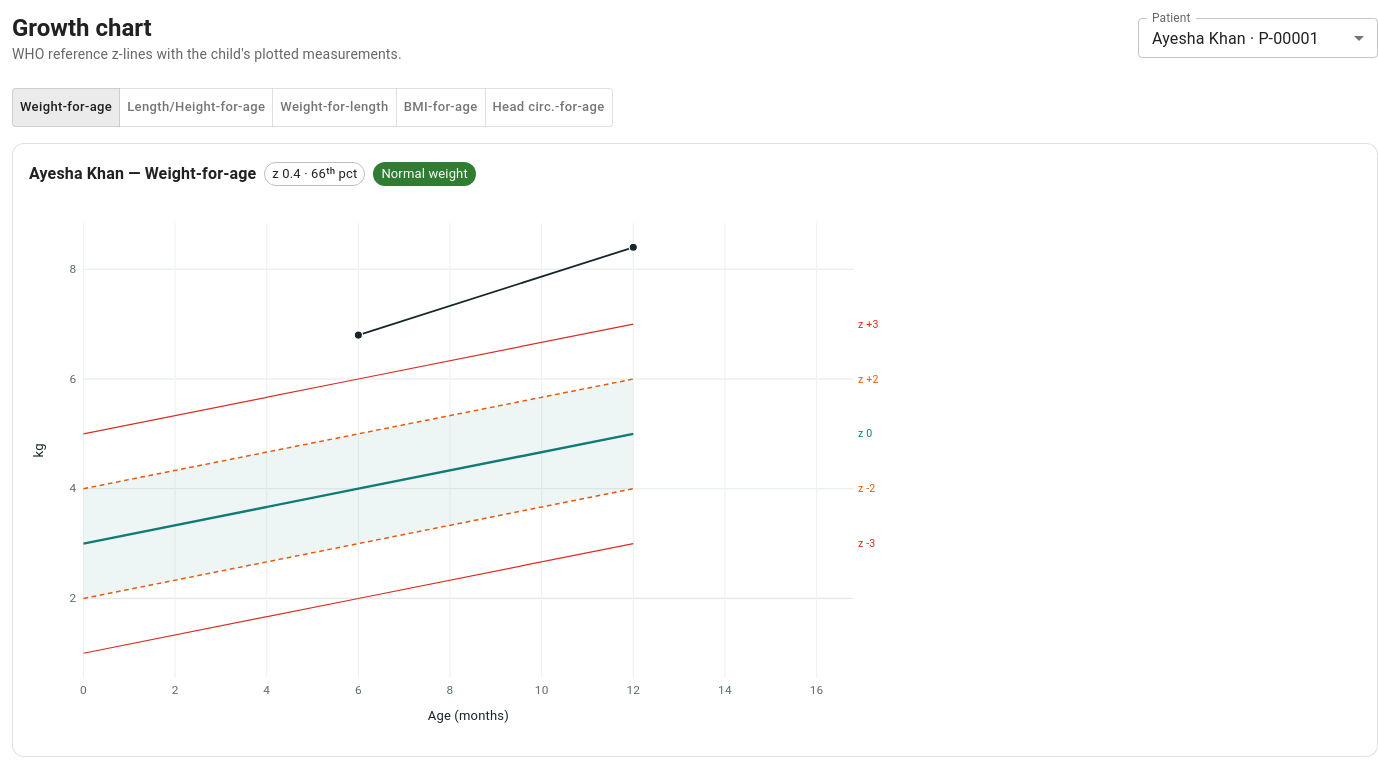
Test case: the chip colour is the server’s verdict, not a client rule › leaves "Normal stature" green at z 2.93, where a |z| ≤ 2 rule would raise a false alarm
Expected: the text "Normal weight" is shown, [381,166,468,181]
What coordinates should you click on to do the following:
click the button "Length/Height-for-age"
I would click on:
 (196, 107)
Its box is [119,88,273,127].
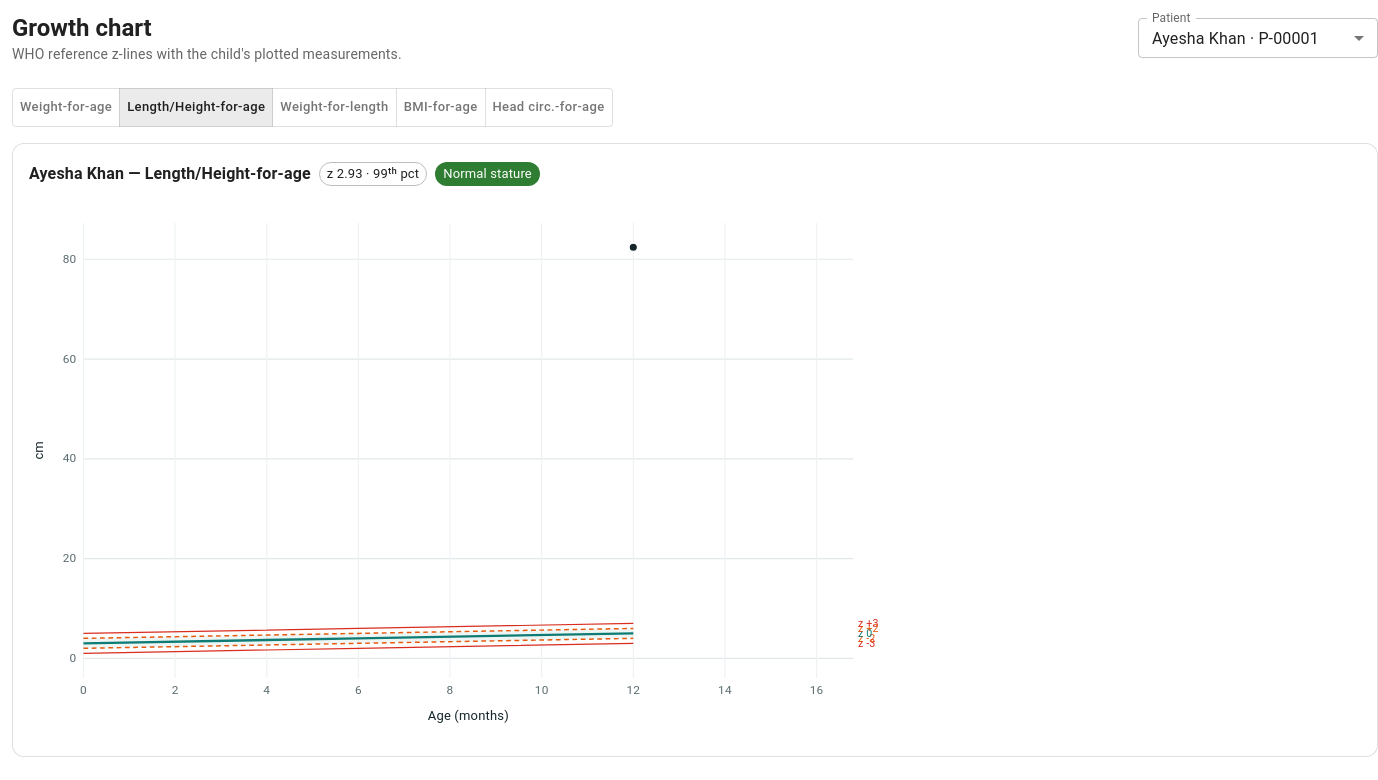
Expected: the text "Normal stature" is shown, [443,166,532,181]
